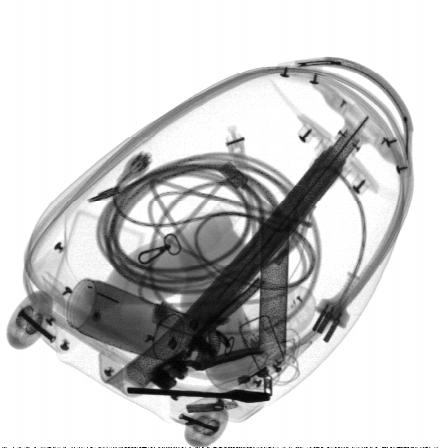Pliers: (149, 275, 269, 393)
Wrench: (127, 387, 272, 405)
